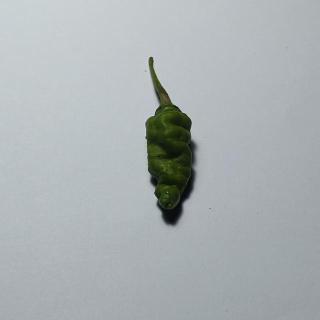Cabai Hijau: (136, 50, 202, 226)
